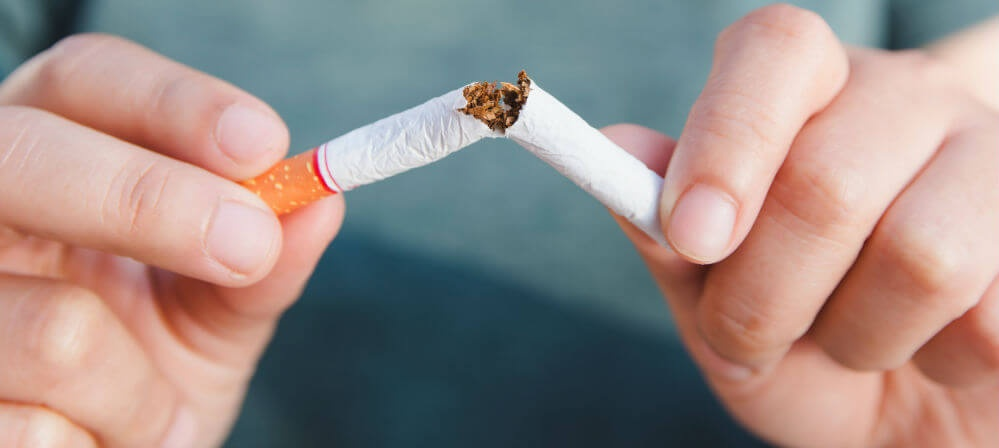sigaretta: (238, 66, 697, 268)
